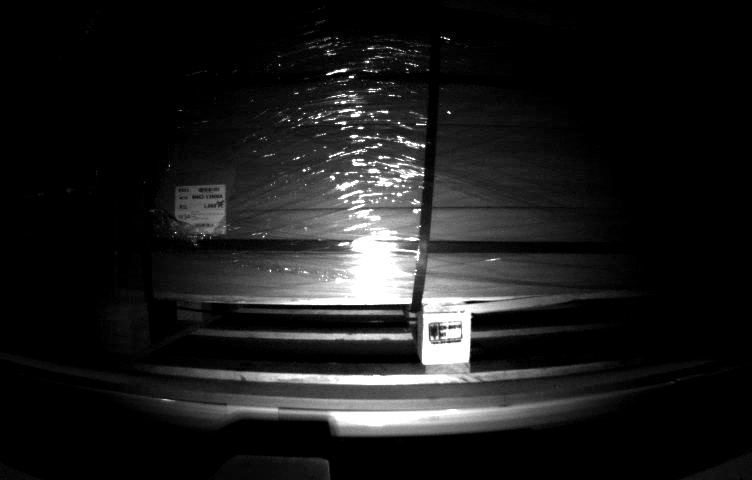True Barcode: (172, 183, 230, 238)
